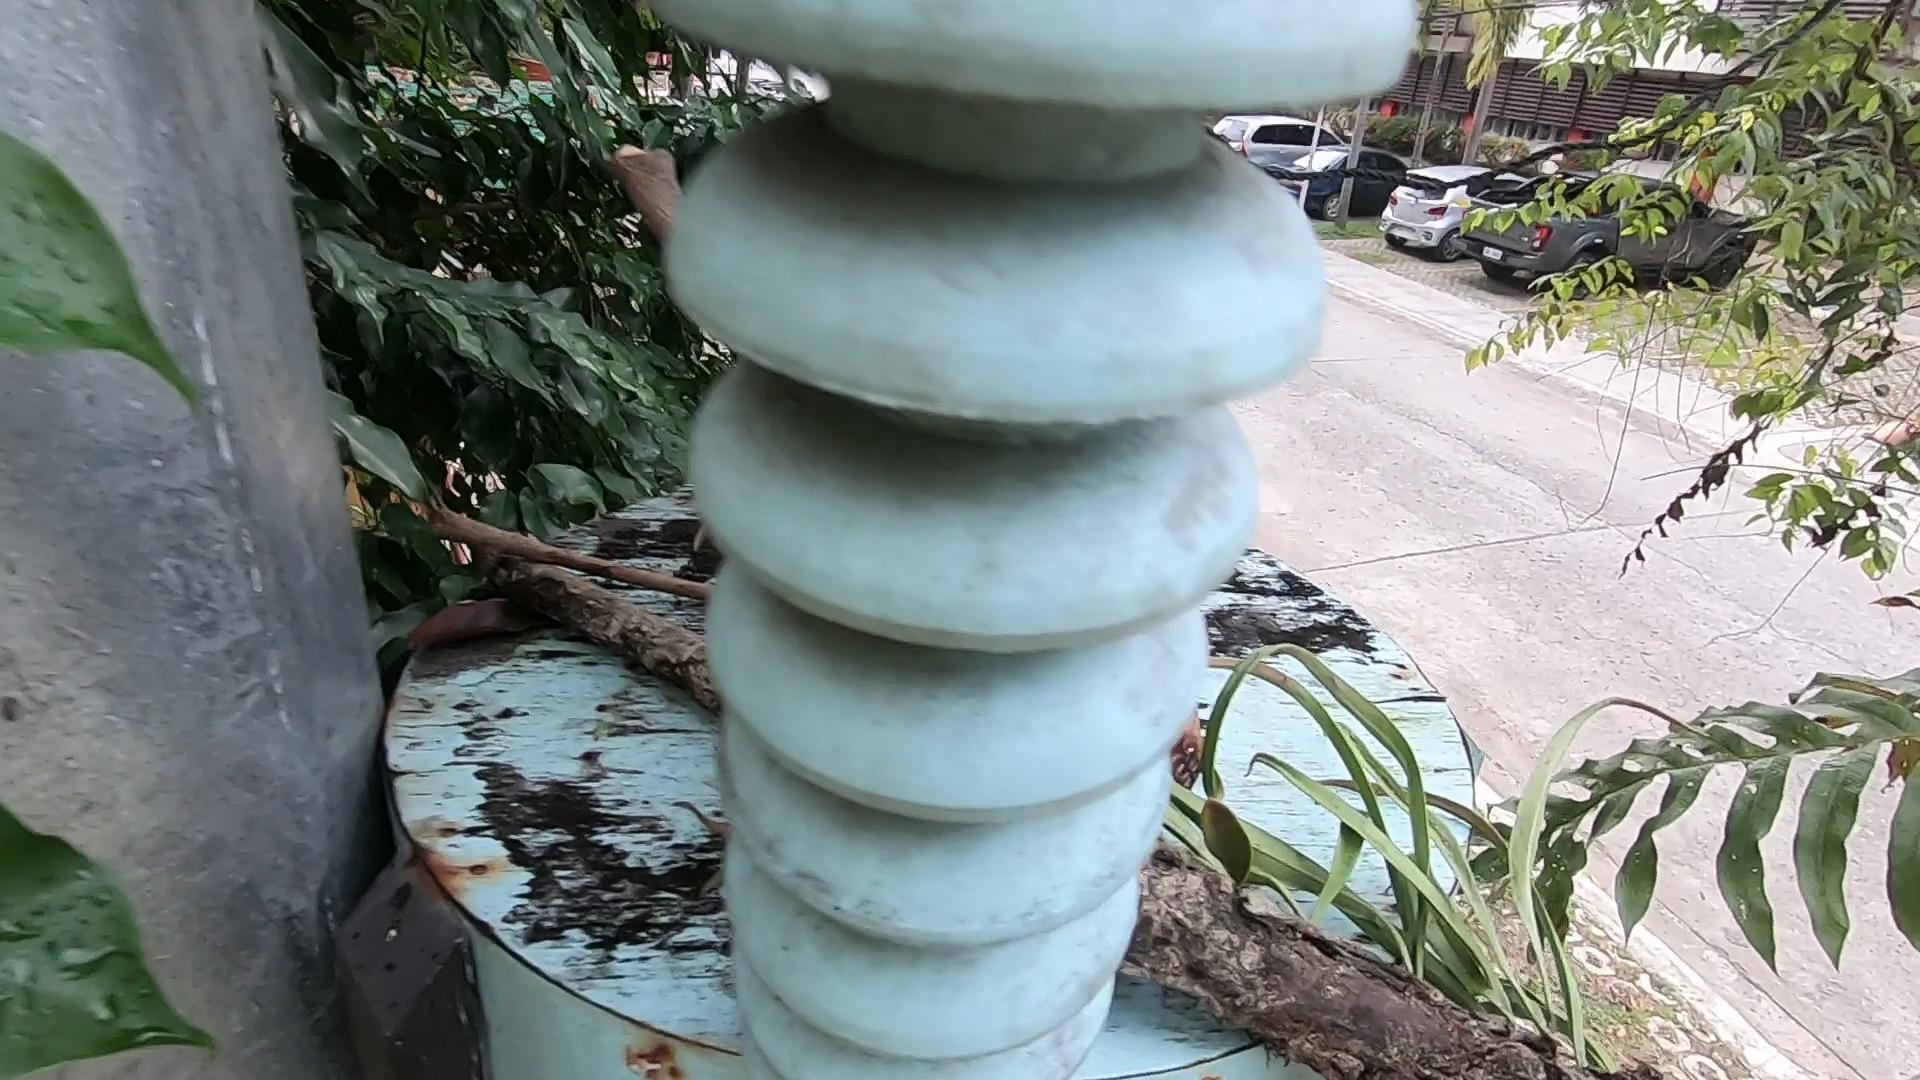branch with leaves: (587, 556, 1575, 1080)
leaf: (382, 529, 562, 682)
tree branch: (426, 512, 702, 599), (644, 140, 694, 257)
